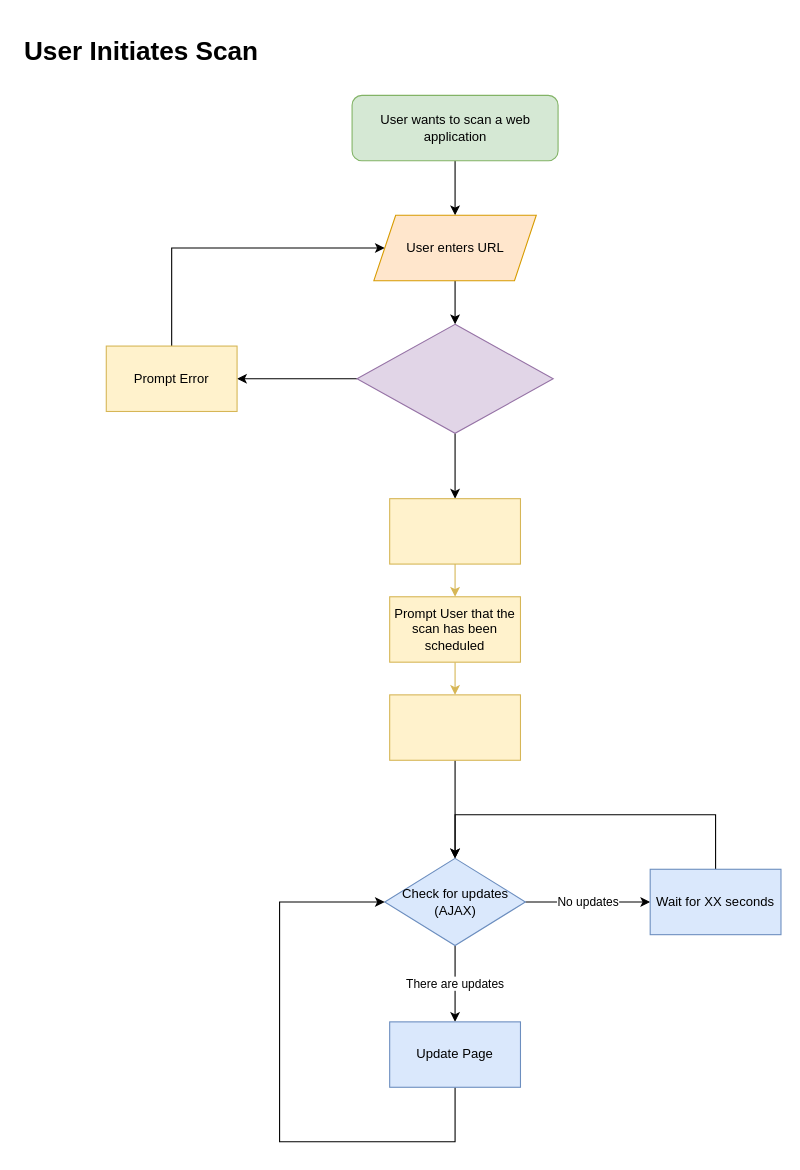
Some shapes in this 800 by 1170 pixel diagram are drawn without their labels. Each missing label, with the centre of its shape:
"Is the domain allowed? (Traversal limits)" belongs at [454,378].
"Queue scan in database" belongs at [454,531].
"Redirect user to Scan History page" belongs at [454,727].
